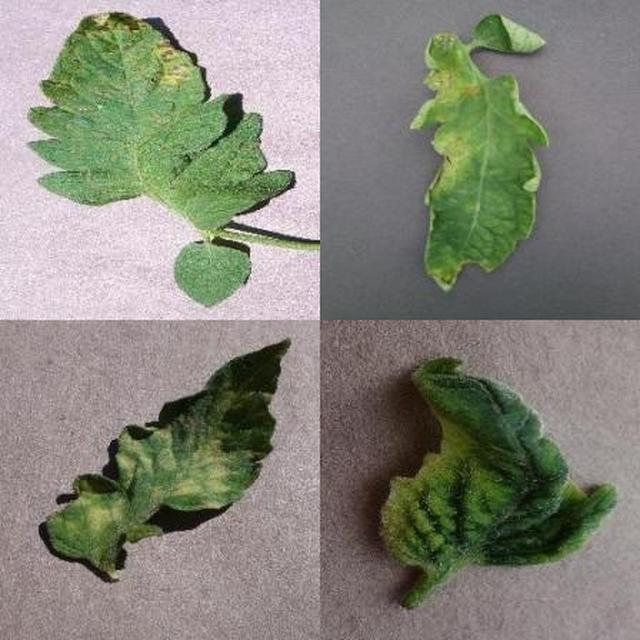Septoria Leaf: (110, 94, 640, 640)
